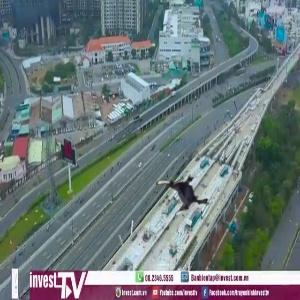drone: (159, 169, 210, 220)
